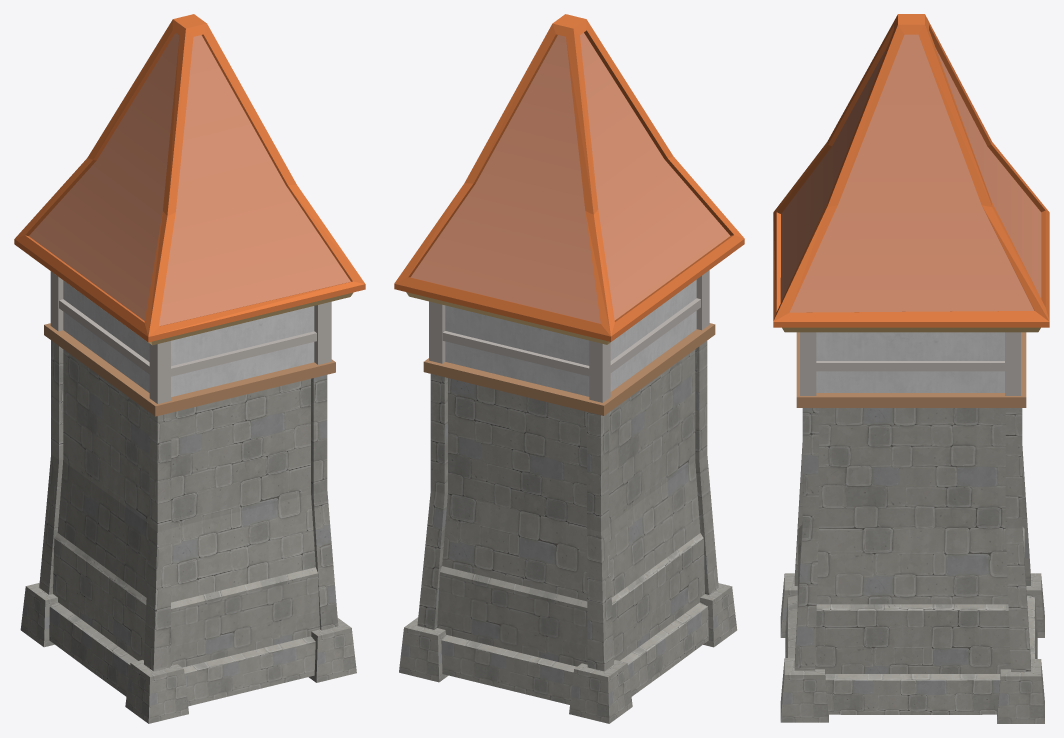
The model's file is Building_B_04.fbx.
3 views of the same model, side by side, from view 1: azimuth 30°, elevation 25°; view 2: azimuth 150°, elevation 25°; view 3: azimuth 270°, elevation 25° (orthographic). The views are drawn at different scales.
Visible parts, largest first — view 1: Building_B_04; view 2: Building_B_04; view 3: Building_B_04.
Boxes of the visible parts, x1,y1,x2,y2 form: Building_B_04: [14, 14, 365, 723]; Building_B_04: [394, 14, 744, 723]; Building_B_04: [773, 14, 1049, 723].
Bounding box in the file's own units: 767 × 2130 × 820.
